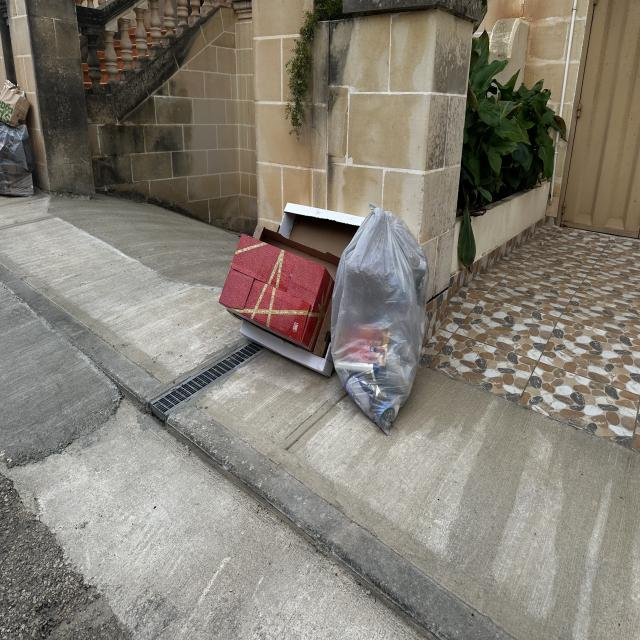Others Waste: (218, 202, 366, 378)
Recyclable Material -Grey Bags-: (331, 204, 429, 436)
